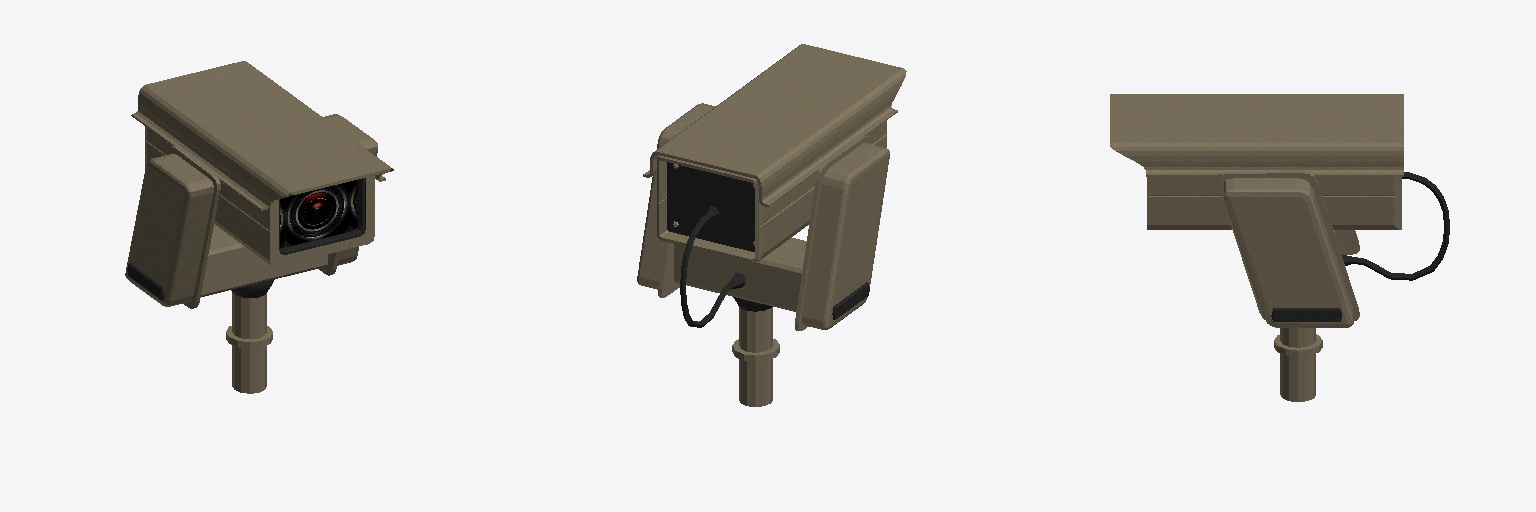
3 views of the same model, side by side, from view 1: azimuth 30°, elevation 25°; view 2: azimuth 150°, elevation 25°; view 3: azimuth 270°, elevation 25° (orthographic).
Visible parts, largest first — view 1: camera_001; view 2: camera_001; view 3: camera_001.
Part boxes in pixels (left/top/right/bottom): camera_001: left=125, top=61, right=393, bottom=393; camera_001: left=637, top=44, right=906, bottom=406; camera_001: left=1110, top=94, right=1449, bottom=401.
Bounding box in the file's own units: 16.04 × 21.5 × 24.08.
4 materials, 4 textured.